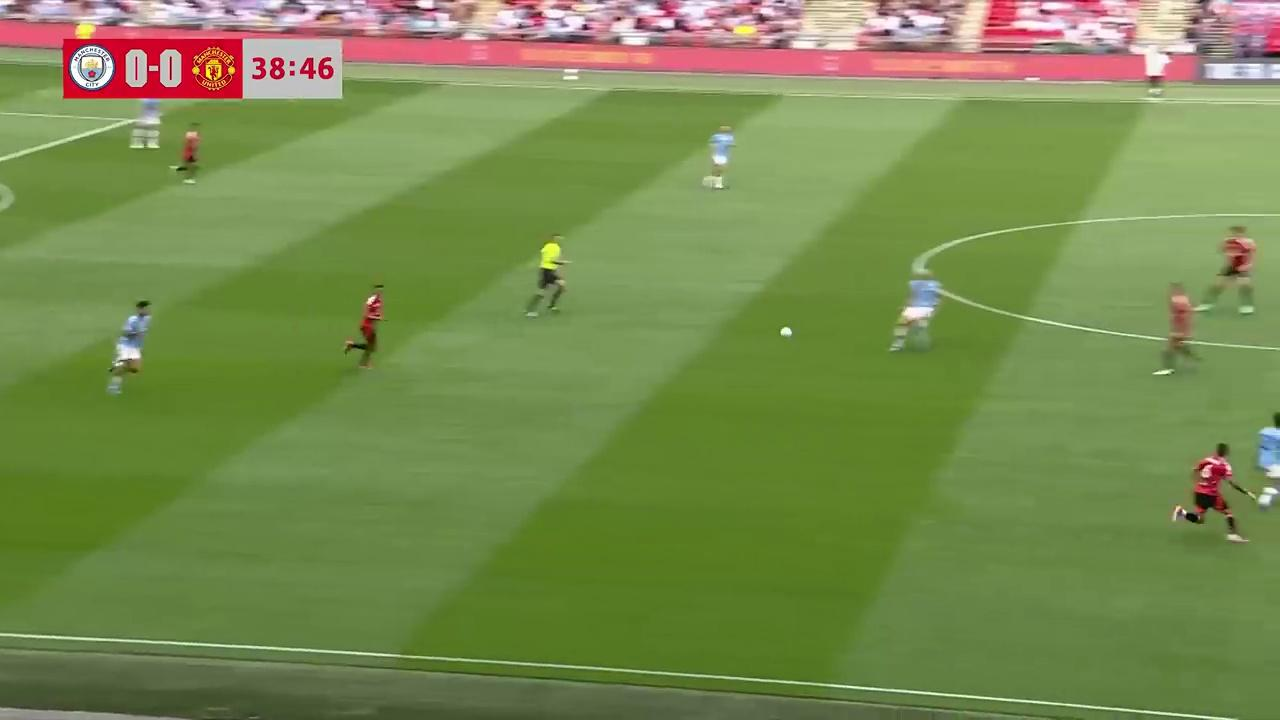ball: (777, 321, 795, 339)
player: (1170, 443, 1252, 542), (888, 267, 944, 353), (105, 300, 152, 396), (1211, 224, 1257, 315), (1155, 282, 1199, 372), (342, 285, 386, 369), (1253, 411, 1280, 509), (701, 124, 736, 190), (169, 125, 202, 183), (129, 97, 162, 150)
referee: (524, 233, 569, 317)
